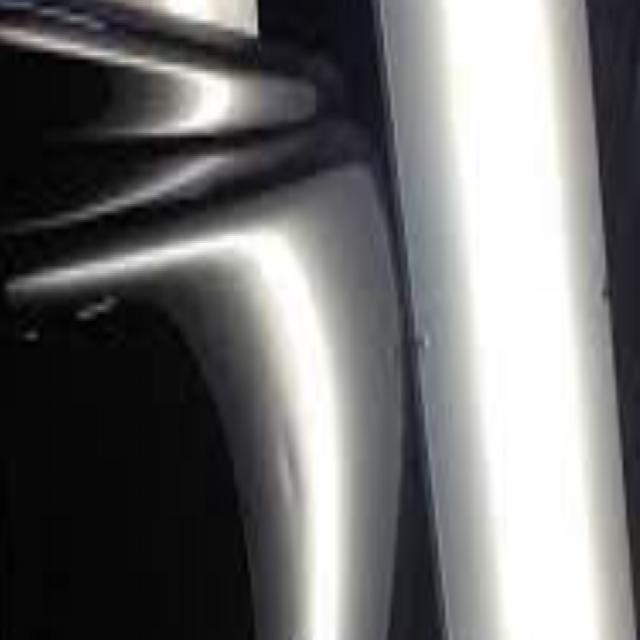dents: (266, 391, 320, 547)
